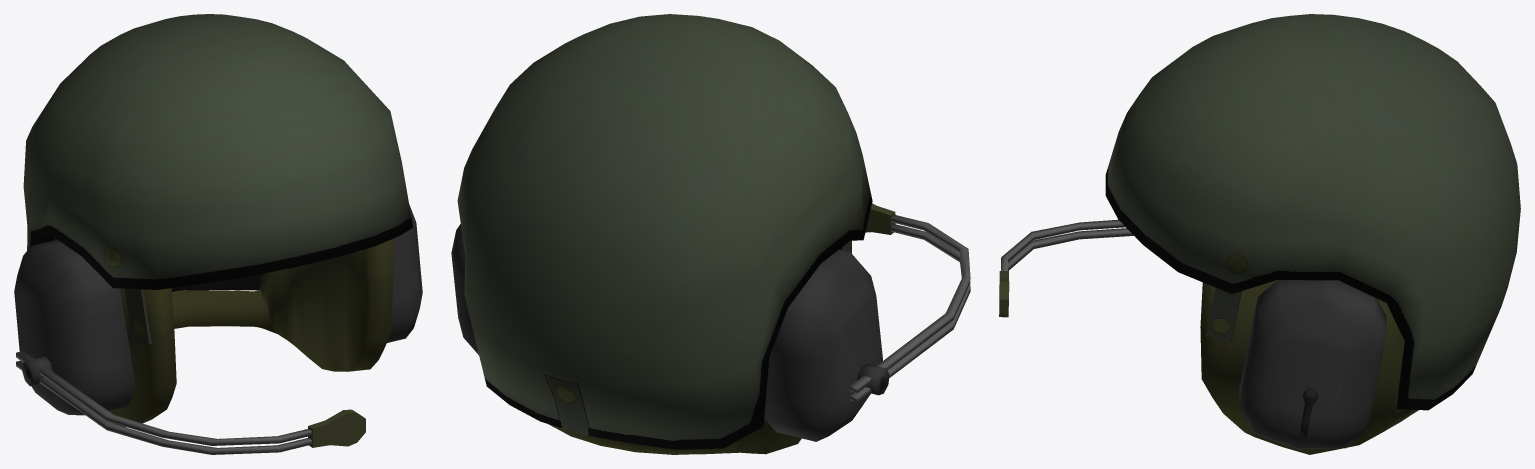
The model's file is DH132_WorldItem.fbx.
3 renders of one model, left to right at view 1: azimuth 30°, elevation 25°; view 2: azimuth 150°, elevation 25°; view 3: azimuth 270°, elevation 25°, orthographic. The views are drawn at different scales.
Parts seen in each view (by area): view 1: Plane.009_Plane.030; view 2: Plane.009_Plane.030; view 3: Plane.009_Plane.030.
Part boxes in pixels (x1,y1,x2,y2): Plane.009_Plane.030: [14, 14, 422, 454]; Plane.009_Plane.030: [451, 14, 970, 454]; Plane.009_Plane.030: [999, 14, 1520, 454].
Bounding box in the file's own units: 0.3795 × 0.3373 × 0.4425.
